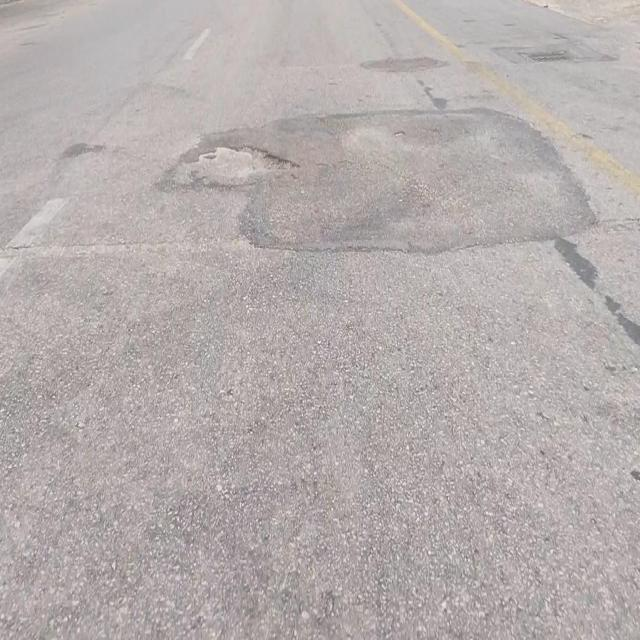Potholes: (196, 139, 298, 183)
